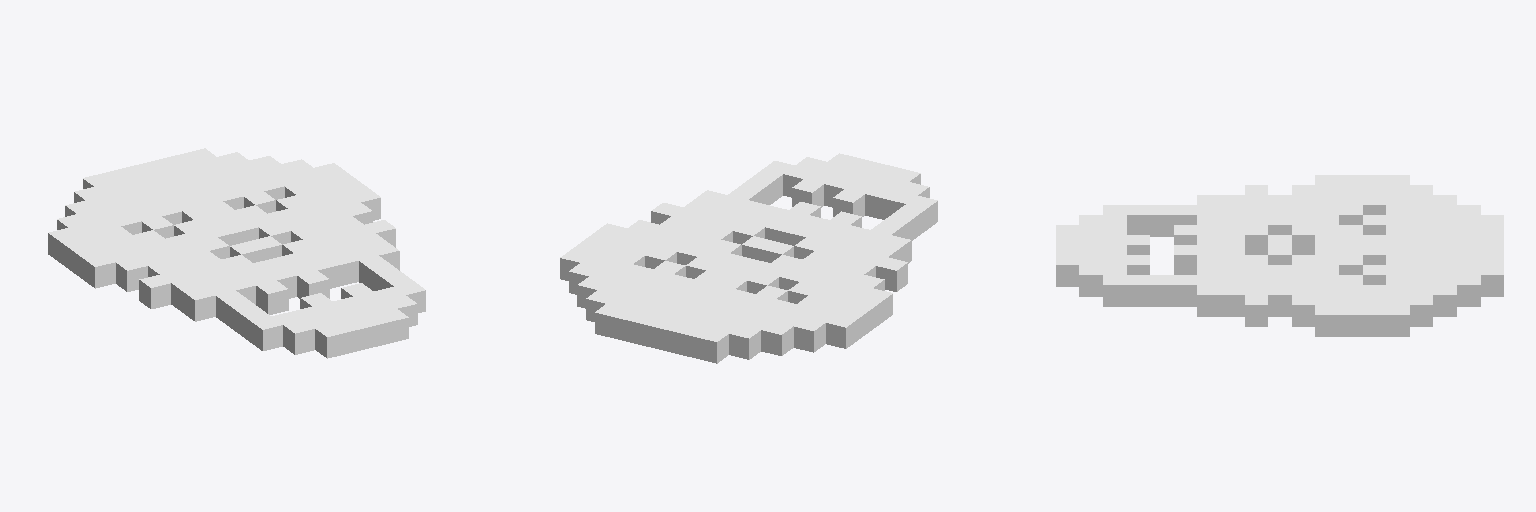
File: ferocious_skeleton.obj
3 renders of one model, left to right at view 1: azimuth 30°, elevation 25°; view 2: azimuth 150°, elevation 25°; view 3: azimuth 270°, elevation 25°, orthographic.
Size of the model in its own units: 14 by 1 by 19.